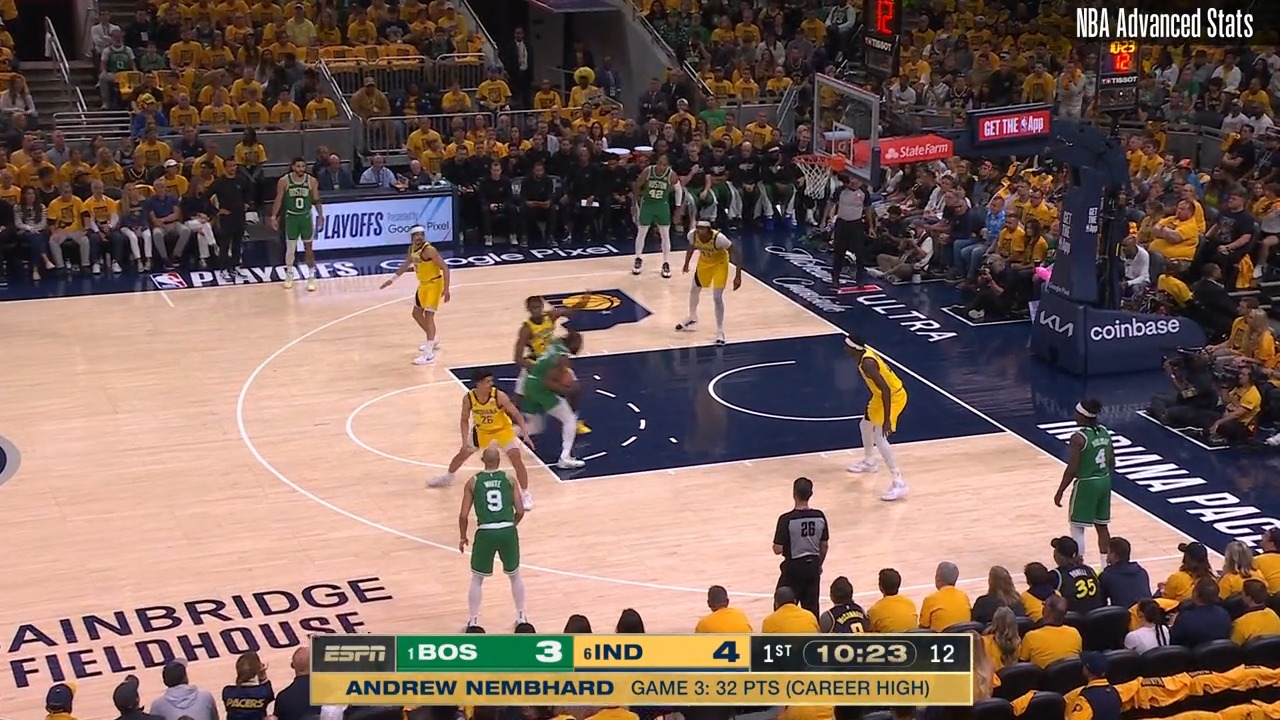basketball: (554, 367, 577, 390)
